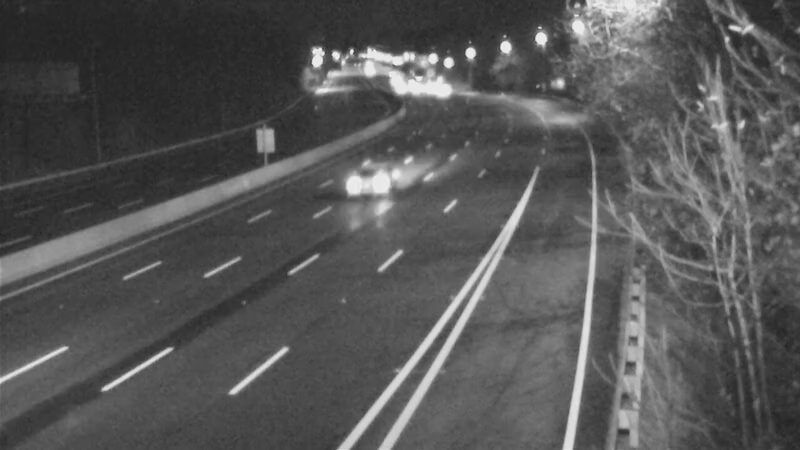vehicle: (337, 142, 417, 222)
